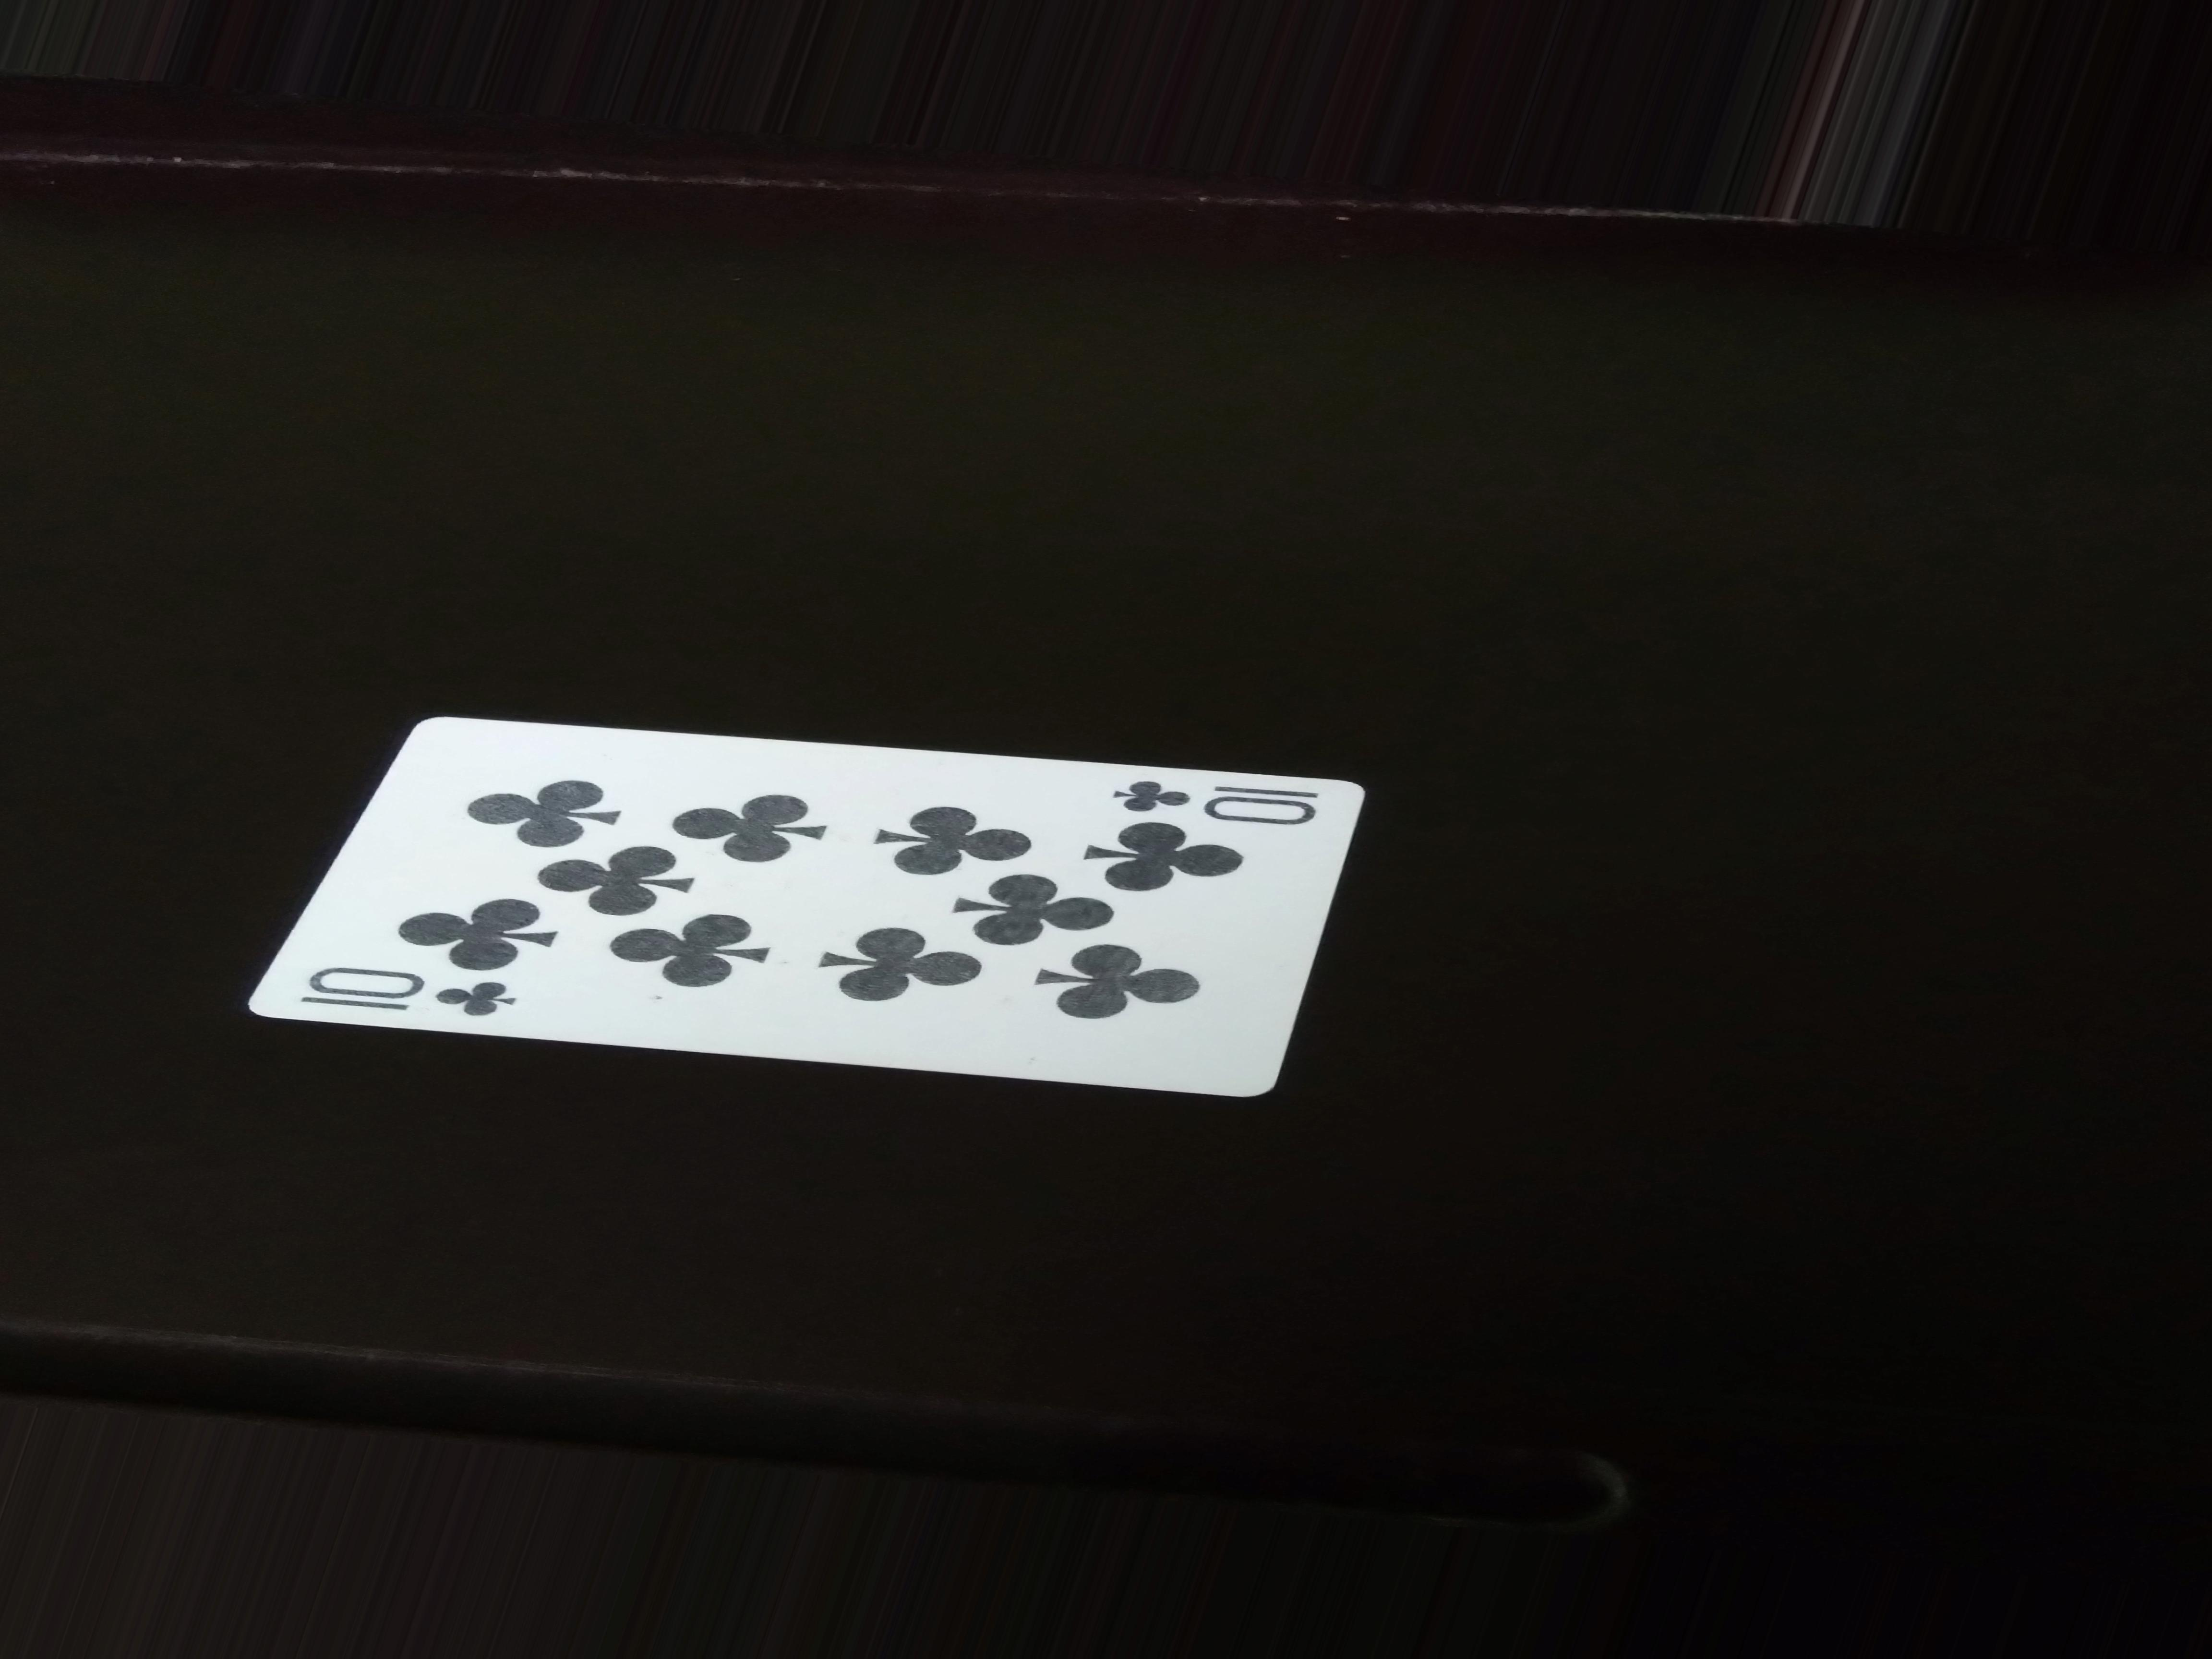10C: (291, 951, 531, 1033)
